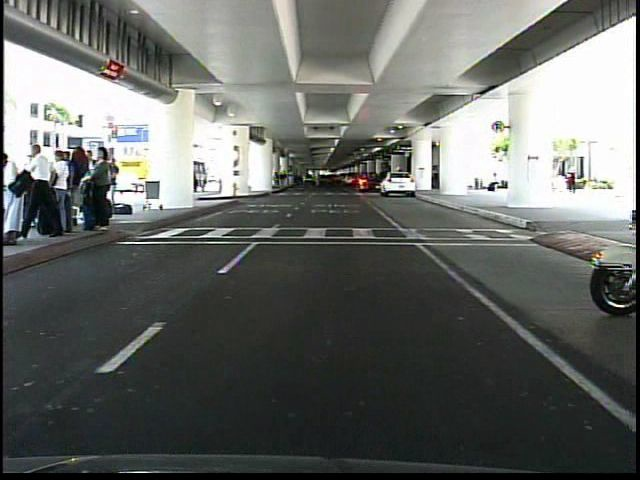person: (559, 159, 582, 198), (485, 166, 502, 198)
